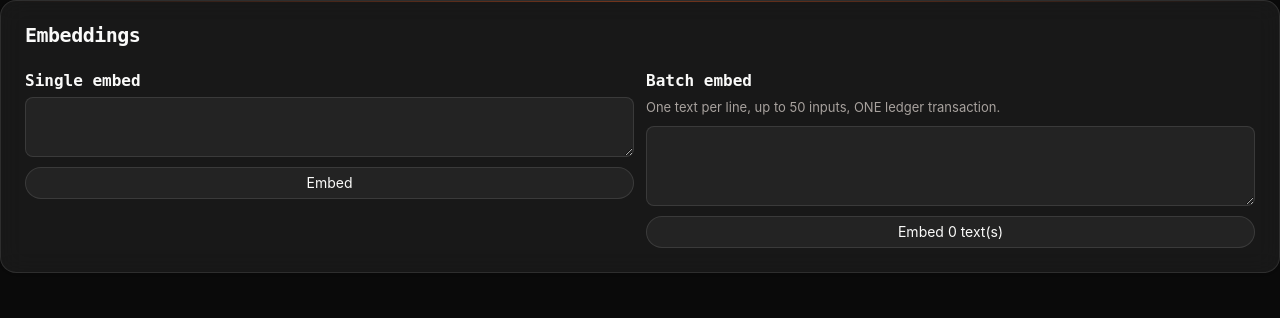
Test case: EmbeddingsPanel › renders the error envelope for a failed single embed
The image size is (1280, 318).
Type "hello world" into the text box named "Single embed text". click: (330, 127)
box: 25,97 -> 634,157
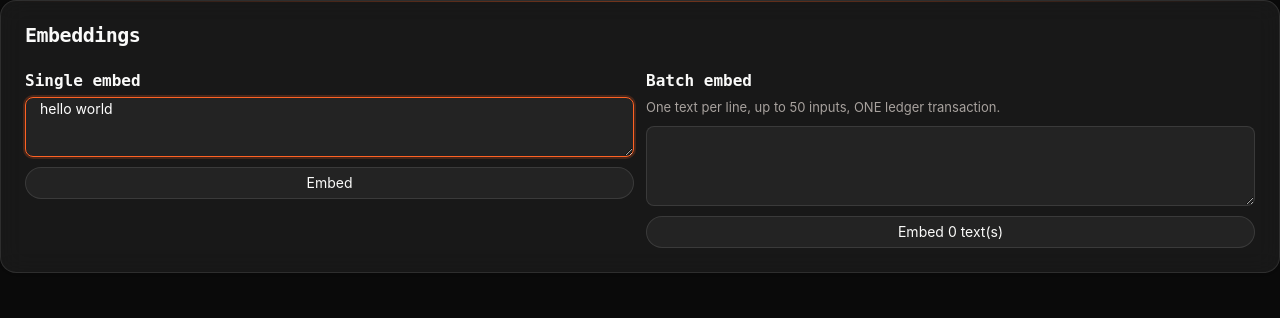
Click the button "Embed". click: (330, 183)
box: 25,167 -> 634,199
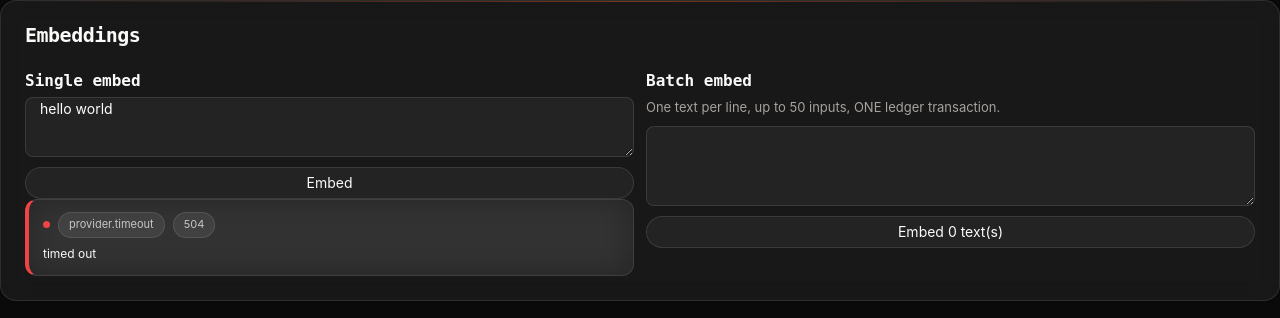
Expected: the message shows "timed out", 43,246 -> 96,261
